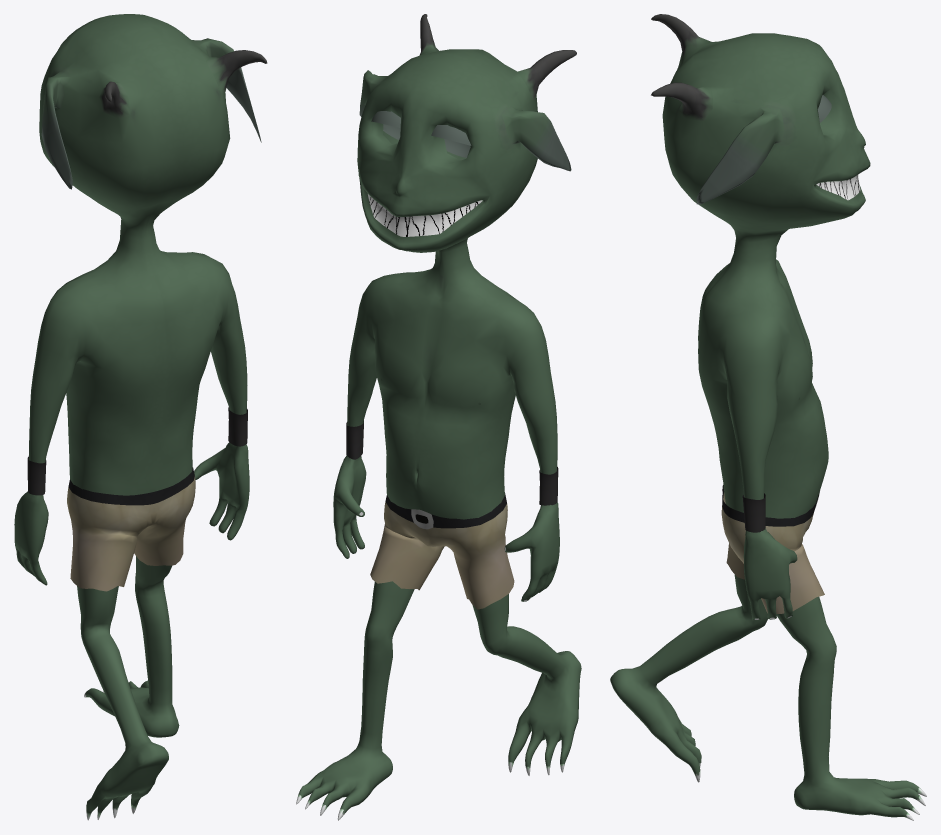
The model's file is lwjglcharactergoblin10_000007.obj.
3 renders of one model, left to right at view 1: azimuth 30°, elevation 25°; view 2: azimuth 150°, elevation 25°; view 3: azimuth 270°, elevation 25°, orthographic. The views are drawn at different scales.
Visible parts, largest first — view 1: Cube.002; view 2: Cube.002; view 3: Cube.002.
Part boxes in pixels (<box>): Cube.002: <box>14,14,267,820</box>; Cube.002: <box>296,14,581,820</box>; Cube.002: <box>610,14,926,820</box>.
Bounding box in the file's own units: 1.18 × 3.84 × 1.46.
